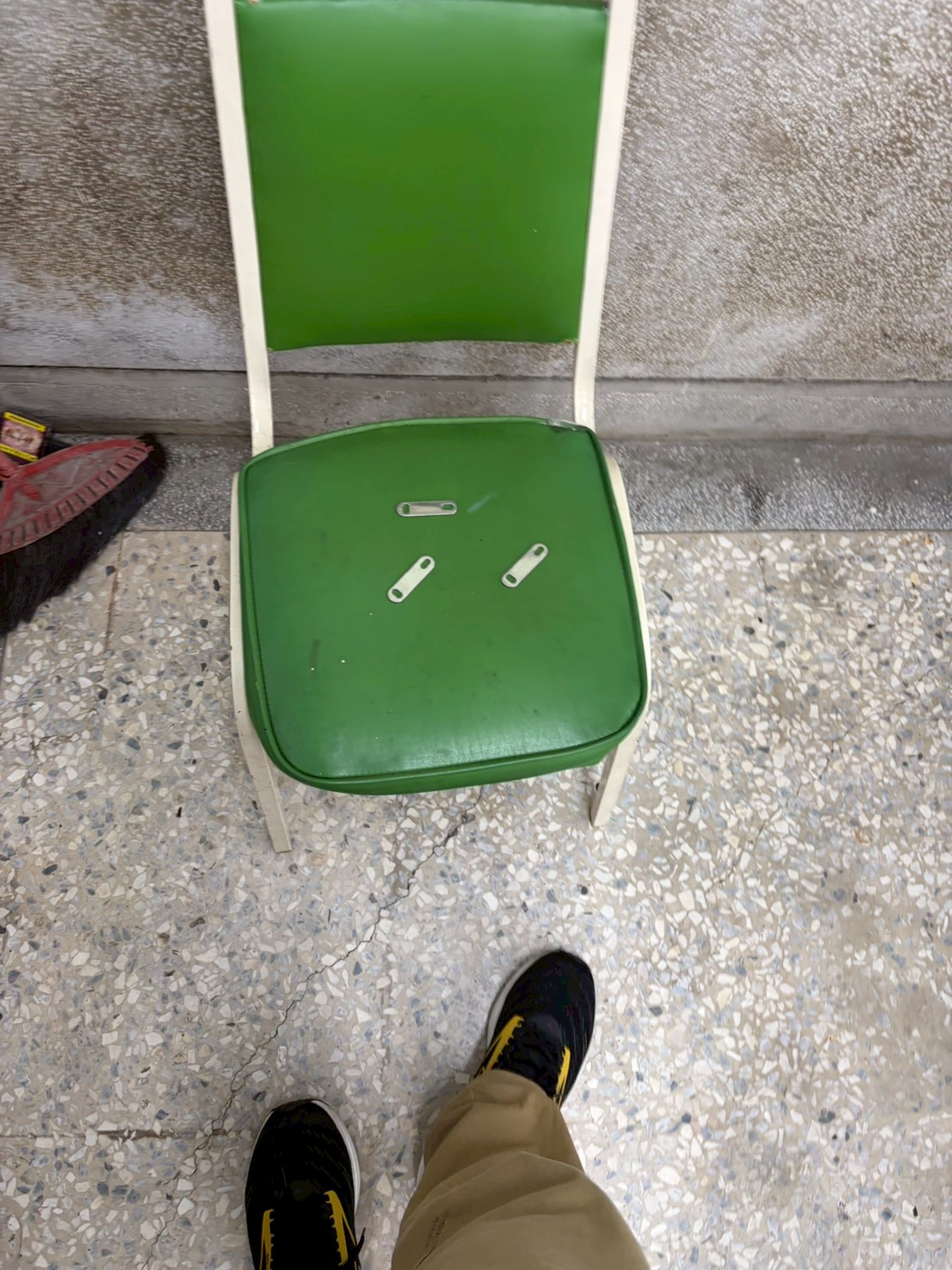Fe: (383, 593, 450, 612), (394, 498, 461, 517), (496, 585, 562, 604)
